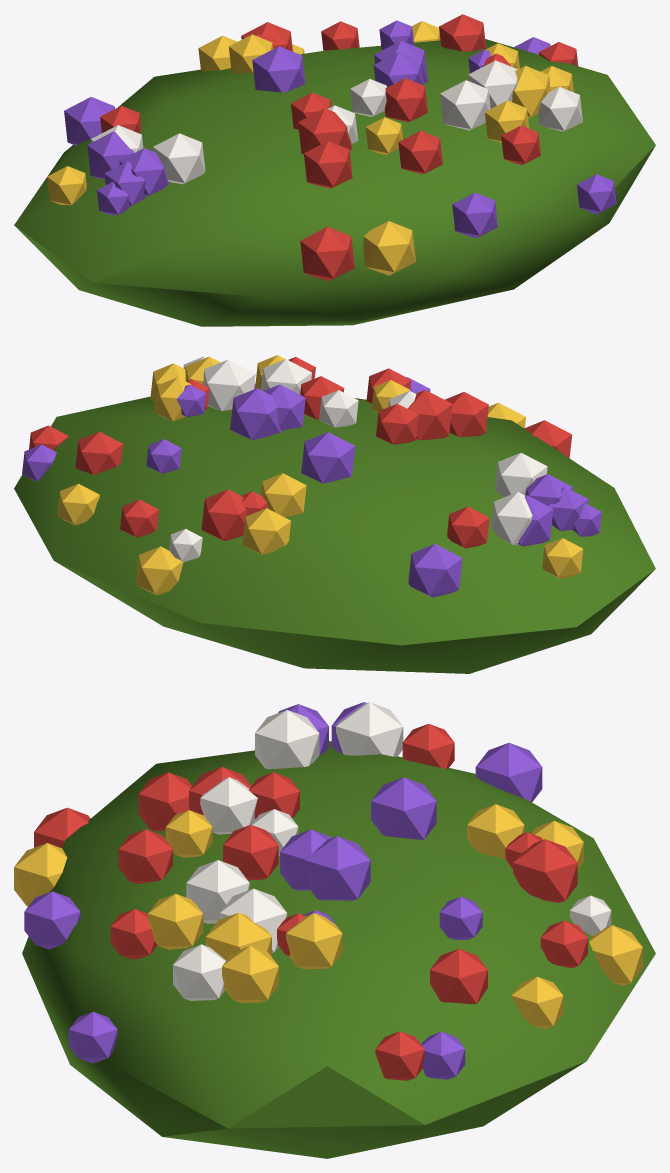
Rendered from flowers_c.fbx.
The picture shows the model from 3 angles, top to bottom: view 1: azimuth 30°, elevation 25°; view 2: azimuth 150°, elevation 25°; view 3: azimuth 270°, elevation 25°; orthographic projection. The views are drawn at different scales.
Parts seen in each view (by area): view 1: flowers_c; view 2: flowers_c; view 3: flowers_c.
Part boxes in pixels (left/top/right/bottom): flowers_c: left=14, top=14, right=655, bottom=326; flowers_c: left=14, top=355, right=655, bottom=673; flowers_c: left=14, top=702, right=655, bottom=1158.
Size of the model in its own units: 2.53 by 0.9223 by 1.95.
